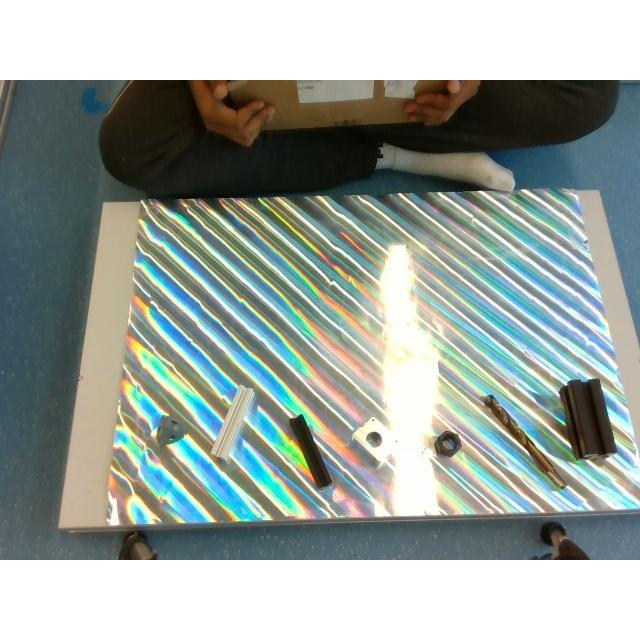Drill: (482, 396, 566, 488)
F20_20_B: (288, 414, 332, 488)
F20_20_G: (210, 385, 254, 461)
M20: (434, 430, 462, 456)
S40_40_B: (560, 378, 616, 458)
